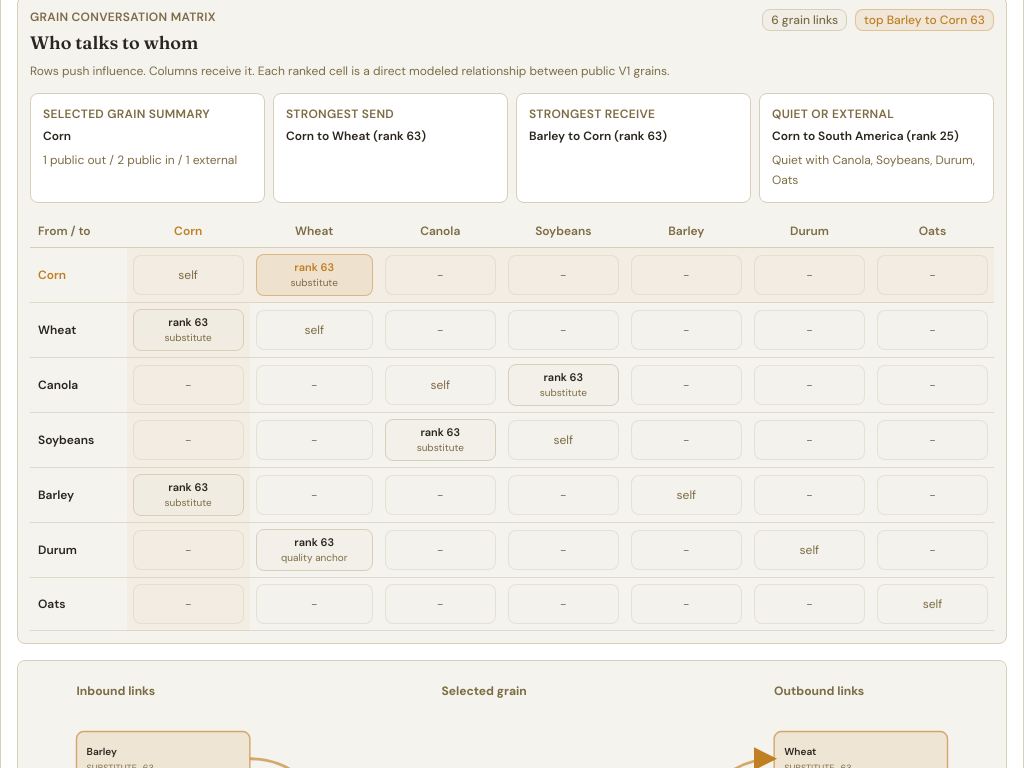
Test: GrainRelationshipExplorer › switches the selected grain from the conversation matrix
The width and height of the screenshot is (1024, 768).
(page scrolled)
Click the button with aria-label "Select Canola to Soybeans relationship" at [563, 385], box [508,364,619,406]
(page scrolled)
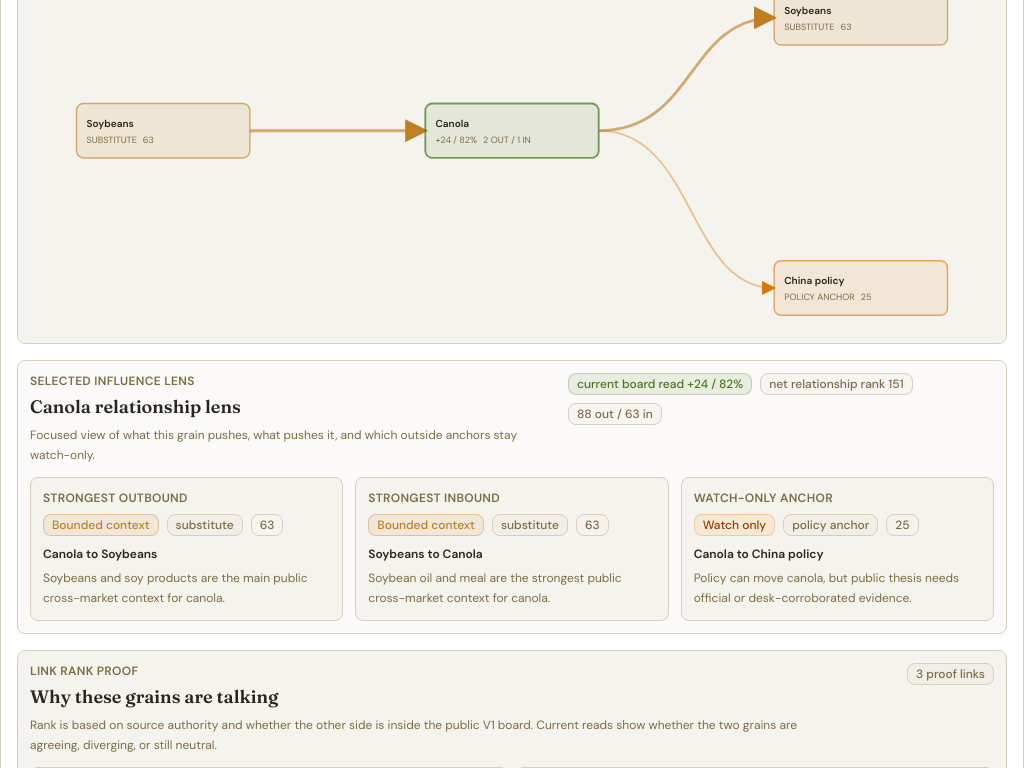
Expected: the heading "Canola relationship lens" is shown, [30,395,241,418]
Expected: the text "current board read +24 / 82%" is shown, [568,373,752,395]
Expected: the text "Canola to Soybeans" is shown, [43,546,157,562]
